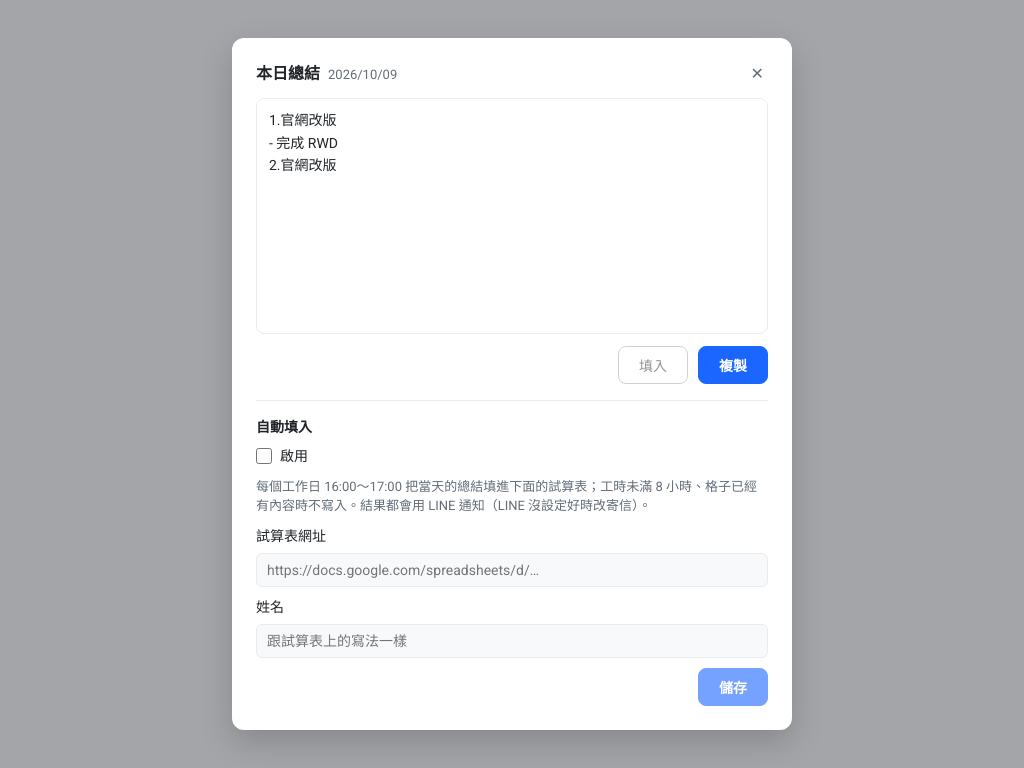
it: 自動填入設定 › 啟用但沒填網址：顯示驗證錯誤，不送出
The width and height of the screenshot is (1024, 768).
Click the checkbox labelled "啟用" at (264, 456), box x1=256 y1=448 x2=272 y2=464
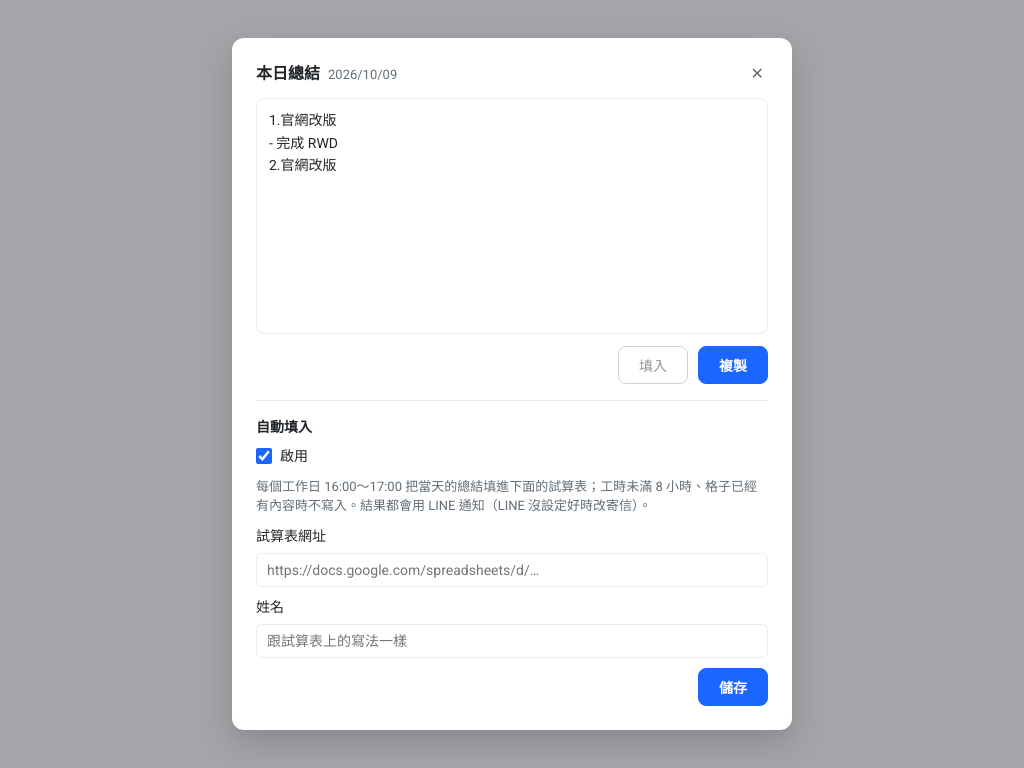
Submit the form, box x1=256 y1=446 x2=768 y2=706
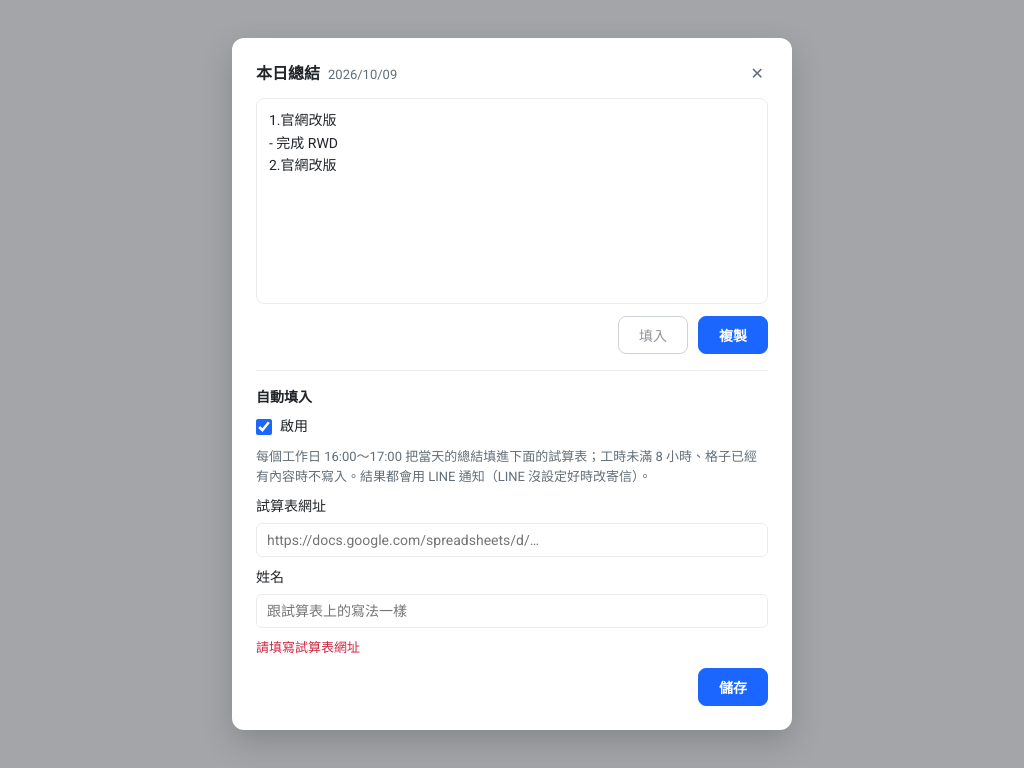
Expected: the message "請填寫試算表網址" is shown, x1=256 y1=640 x2=360 y2=655
